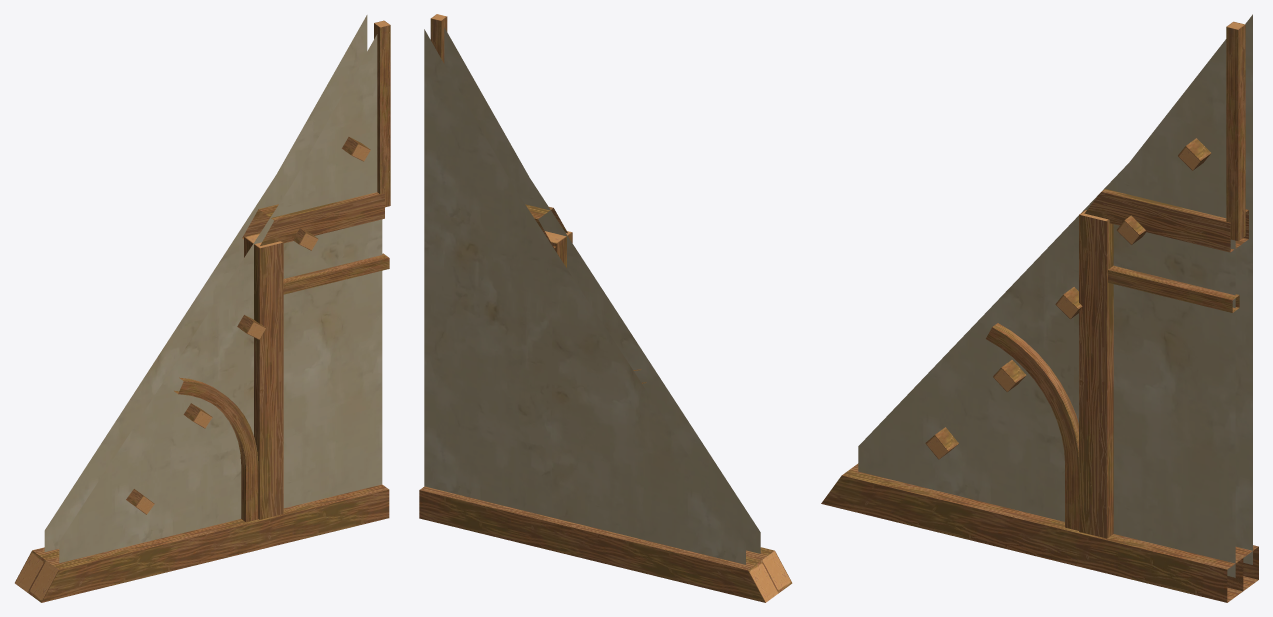
Rendered from roof_front_brick6_half_l.glb.
3 renders of one model, left to right at view 1: azimuth 30°, elevation 25°; view 2: azimuth 150°, elevation 25°; view 3: azimuth 330°, elevation 25°, orthographic. The views are drawn at different scales.
Bounding box in the file's own units: 3.41 × 4.52 × 0.4895.
2 materials, 2 textured.
